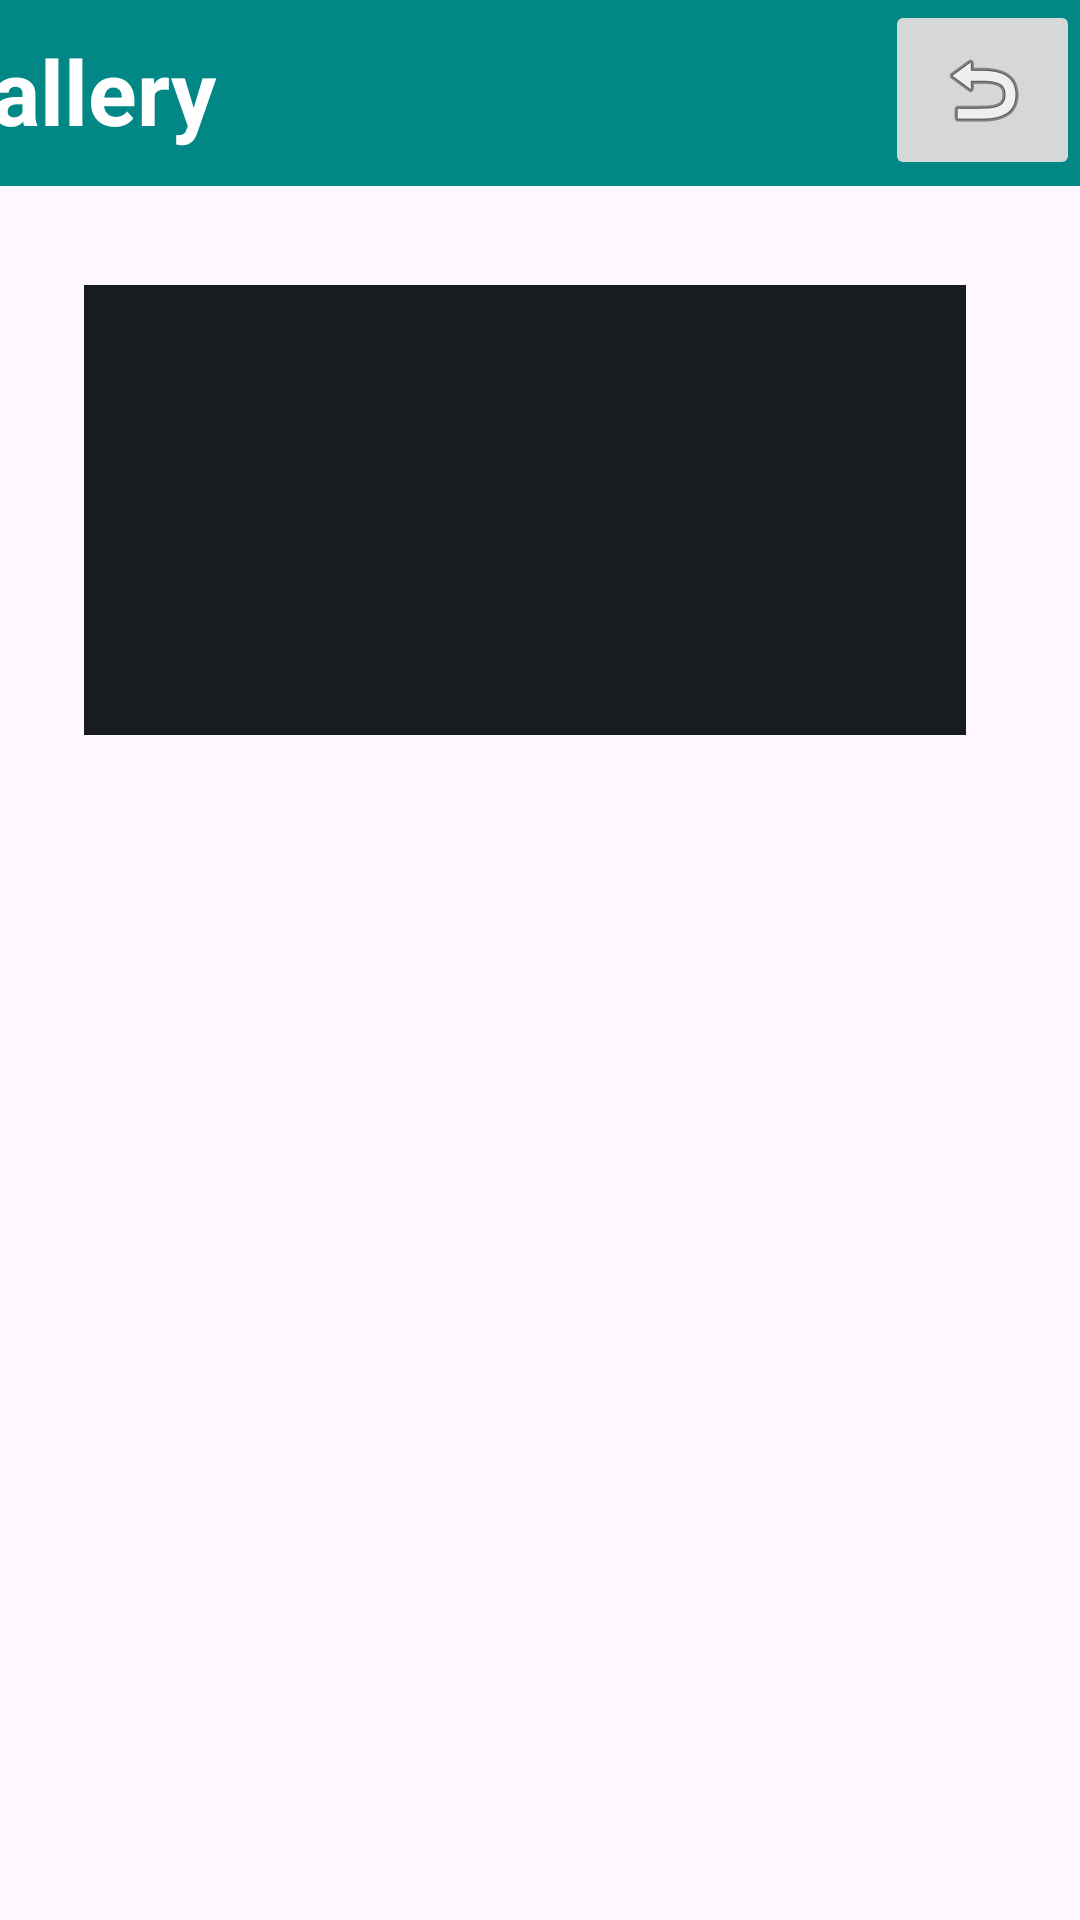

Named icons in this screenshot (1080 x 1920) and their centers, point (x, y):
revert: point (982, 90)
